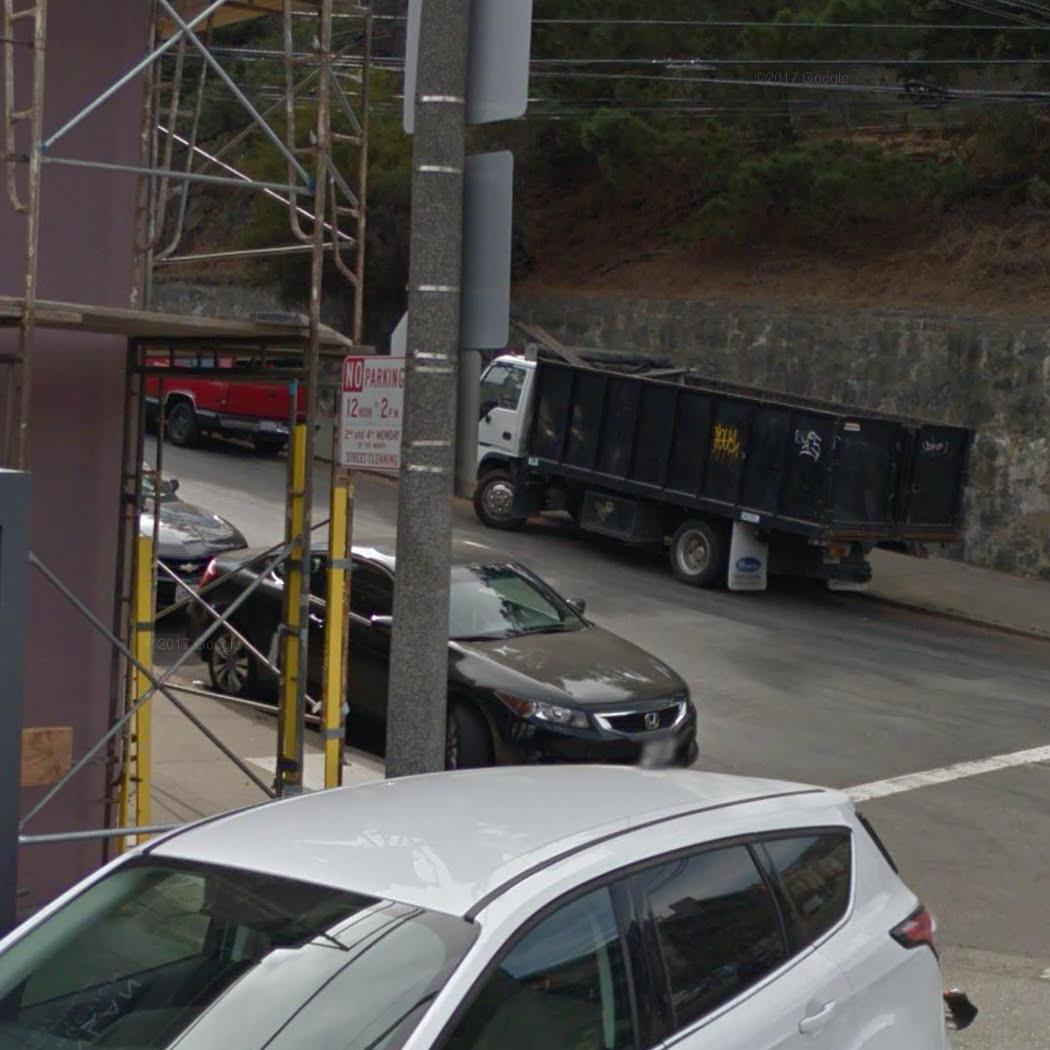No Parking: (338, 350, 419, 474)
